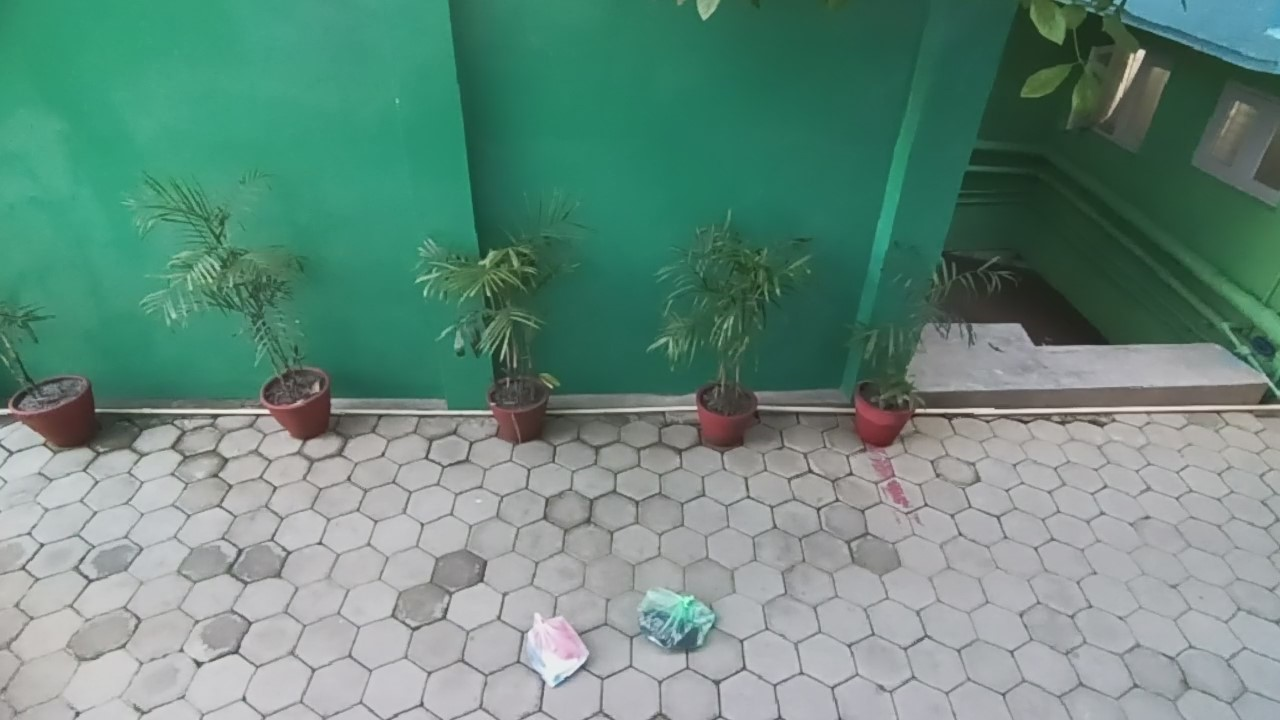thrownwaste: (498, 589, 598, 685), (619, 584, 729, 668)
